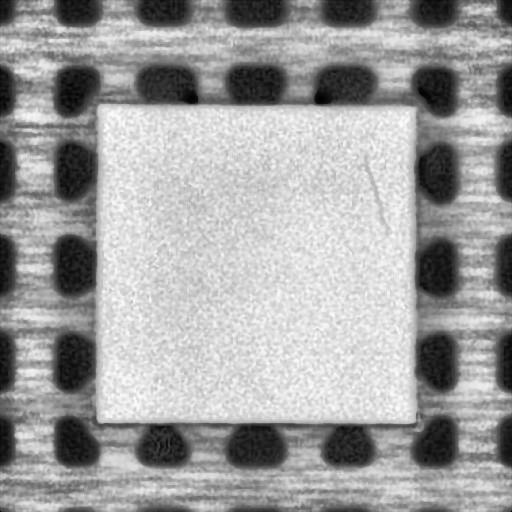DIE_CRACK: (359, 146, 390, 231)
